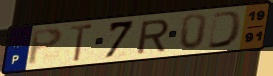0: (178, 13, 209, 52)
7: (102, 19, 137, 61)
D: (206, 10, 245, 51)
P: (26, 26, 65, 67)
R: (135, 17, 171, 56)
T: (67, 23, 96, 64)
